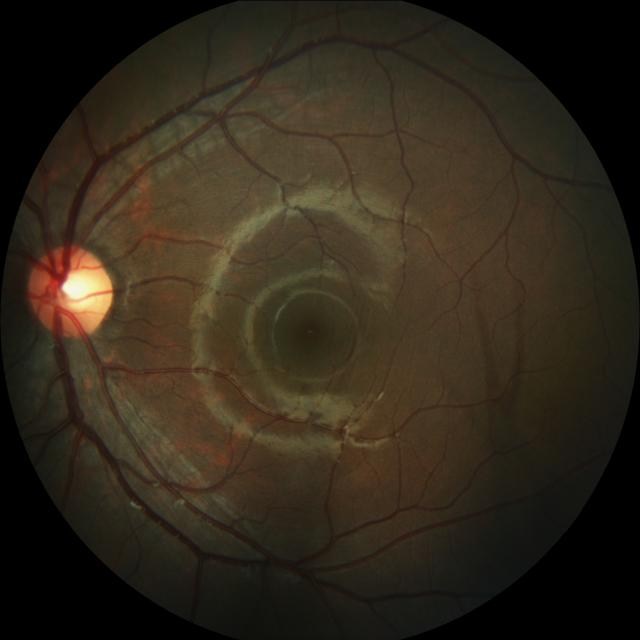OC: (52, 265, 94, 311)
OD: (26, 244, 111, 337)
